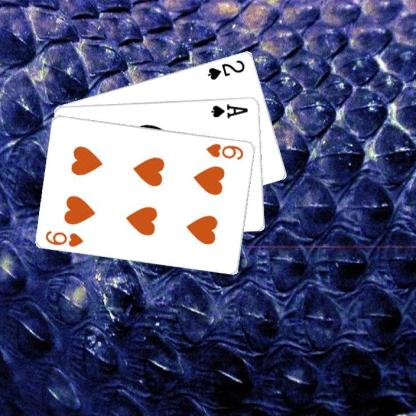2S: (205, 57, 246, 81)
6H: (204, 140, 245, 161), (43, 228, 85, 248)
AS: (209, 101, 250, 119)
